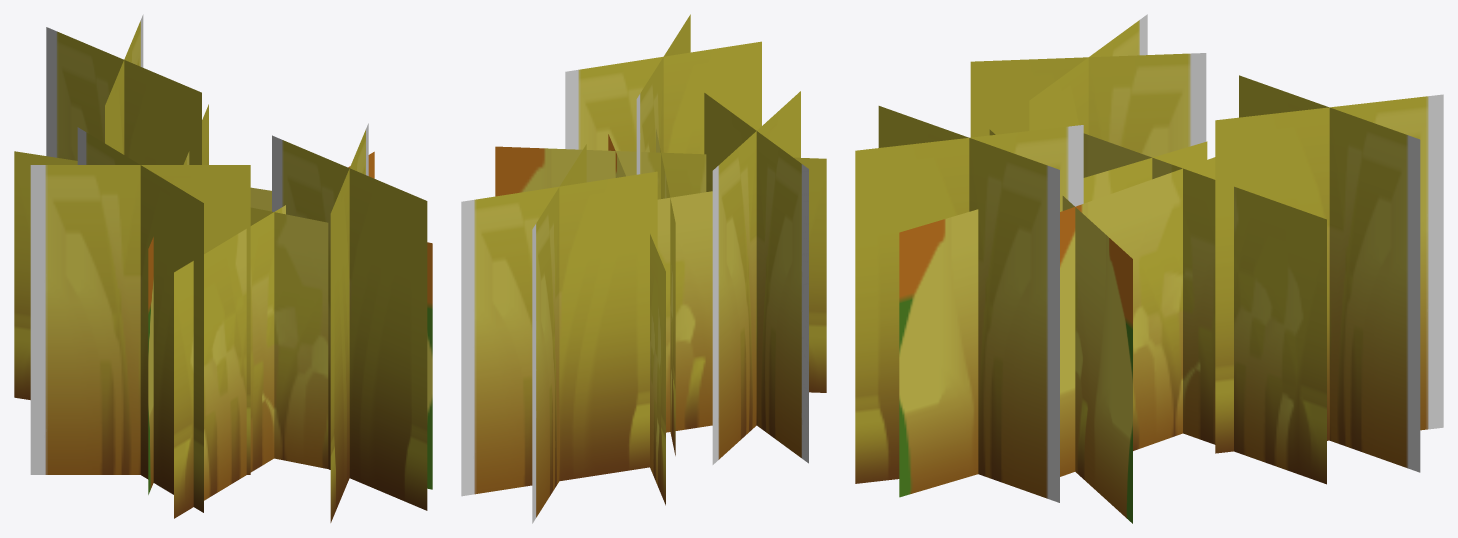
File: SM_Grass010.FBX
3 renders of one model, left to right at view 1: azimuth 30°, elevation 25°; view 2: azimuth 150°, elevation 25°; view 3: azimuth 270°, elevation 25°, orthographic. The views are drawn at different scales.
Parts seen in each view (by area): view 1: Grass010; view 2: Grass010; view 3: Grass010.
Part boxes in pixels (bbox=[...]): Grass010: bbox=[14, 14, 432, 522]; Grass010: bbox=[461, 14, 826, 523]; Grass010: bbox=[855, 14, 1443, 523].
Bounding box in the file's own units: 106 × 149 × 92.96.
